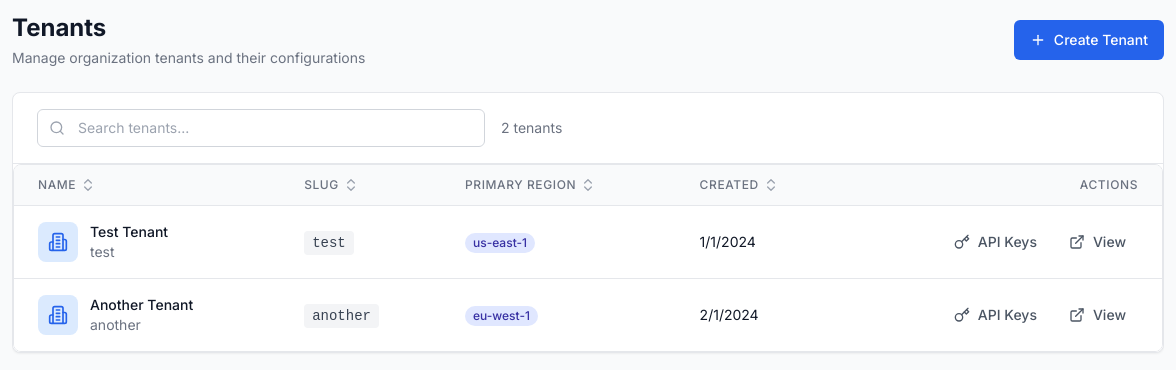
Test: TenantsList › filters tenants when searching
The width and height of the screenshot is (1176, 370).
expect the text "Test Tenant" is shown: met, box [90,222,168,242]
Note: Type in search box
In the field with placeholder "Search tenants...": (261, 128) [37,109,485,147], type "Another"
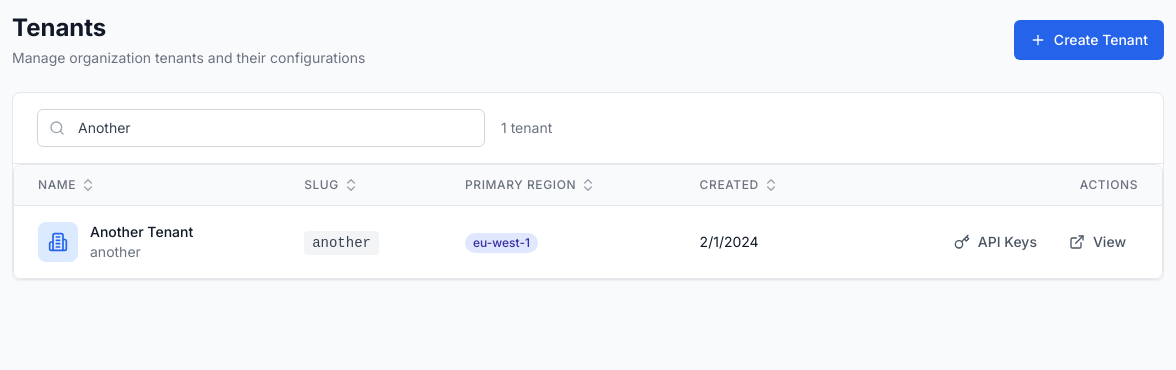
expect the text "Another Tenant" is shown: met, box [90,222,193,242]
expect the text "Test Tenant" is gone: met
